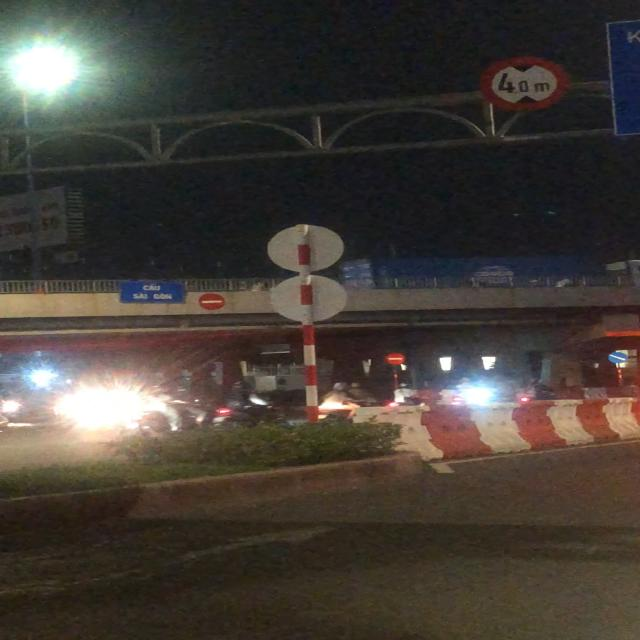Bien bao cam di nguoc chieu: (196, 291, 231, 311), (383, 351, 407, 365)
Bien bao han che chieu cao: (479, 52, 572, 113)
Bien bao huong phai di vong chuong ngai vat: (606, 351, 630, 365)
